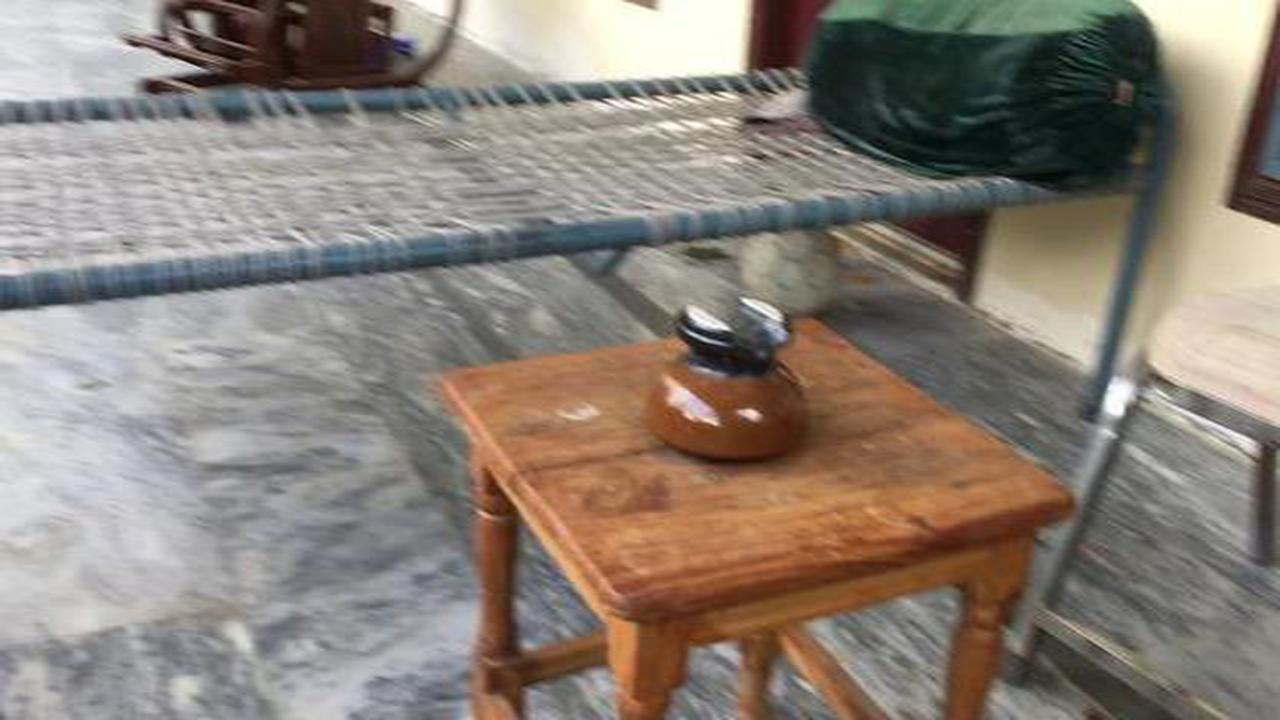insulator_pin: (631, 277, 828, 480)
